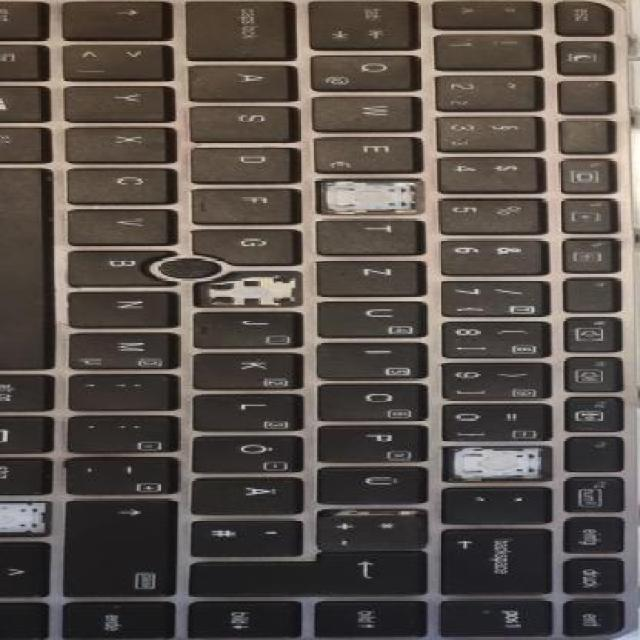Keyboard problems: (445, 446, 551, 480), (195, 272, 300, 305), (320, 180, 420, 212), (0, 500, 48, 535)
